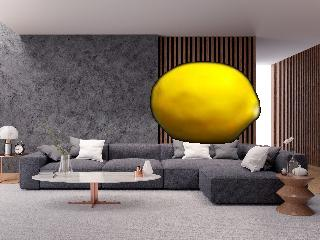lemon: (154, 62, 261, 142)
